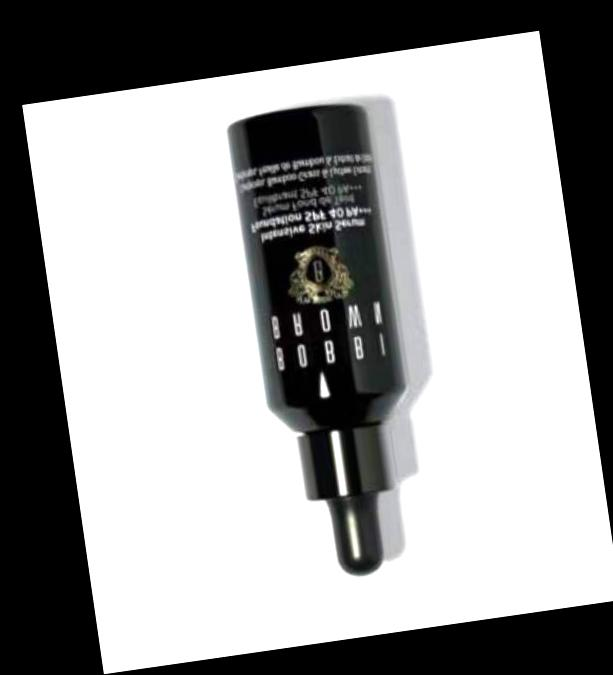cosmetic: (222, 108, 430, 586)
